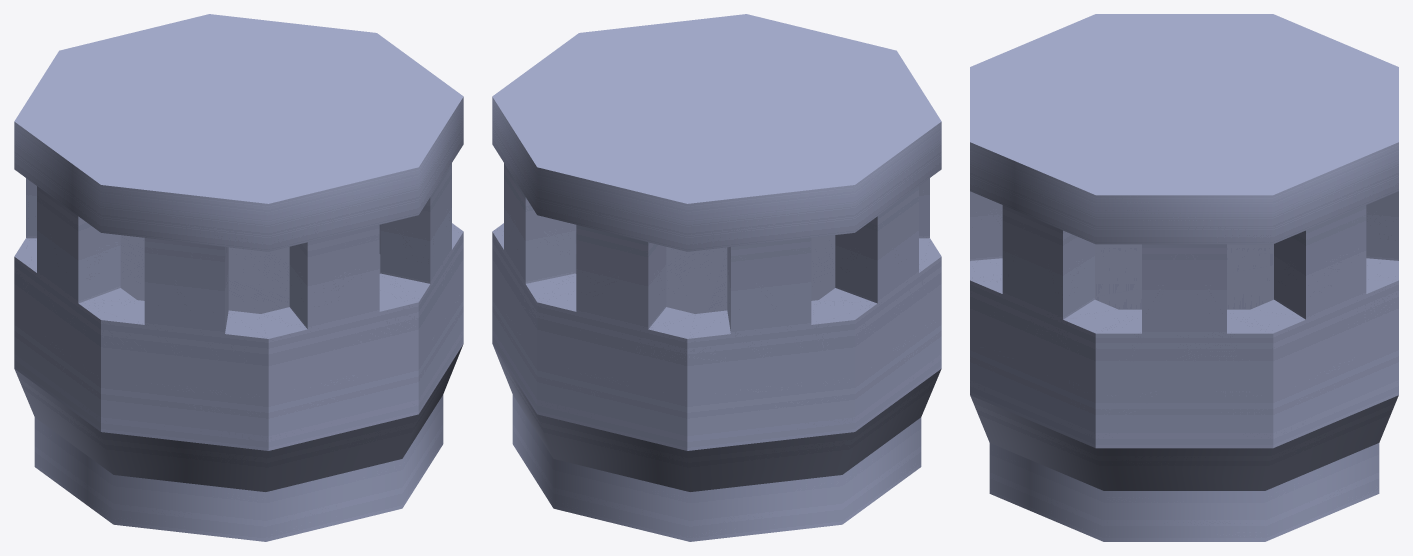
The model's file is tower-watch.glb.
3 views of the same model, side by side, from view 1: azimuth 30°, elevation 25°; view 2: azimuth 150°, elevation 25°; view 3: azimuth 270°, elevation 25° (orthographic). The views are drawn at different scales.
Parts seen in each view (by area): view 1: tower-watch; view 2: tower-watch; view 3: tower-watch.
Boxes of the visible parts, bbox=[...] form: tower-watch: bbox=[14, 14, 463, 541]; tower-watch: bbox=[492, 14, 941, 541]; tower-watch: bbox=[970, 14, 1398, 541].
Bounding box in the file's own units: 3.05 × 2.79 × 3.05.
1 material, 1 textured.
